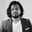face: (8, 1, 22, 20)
